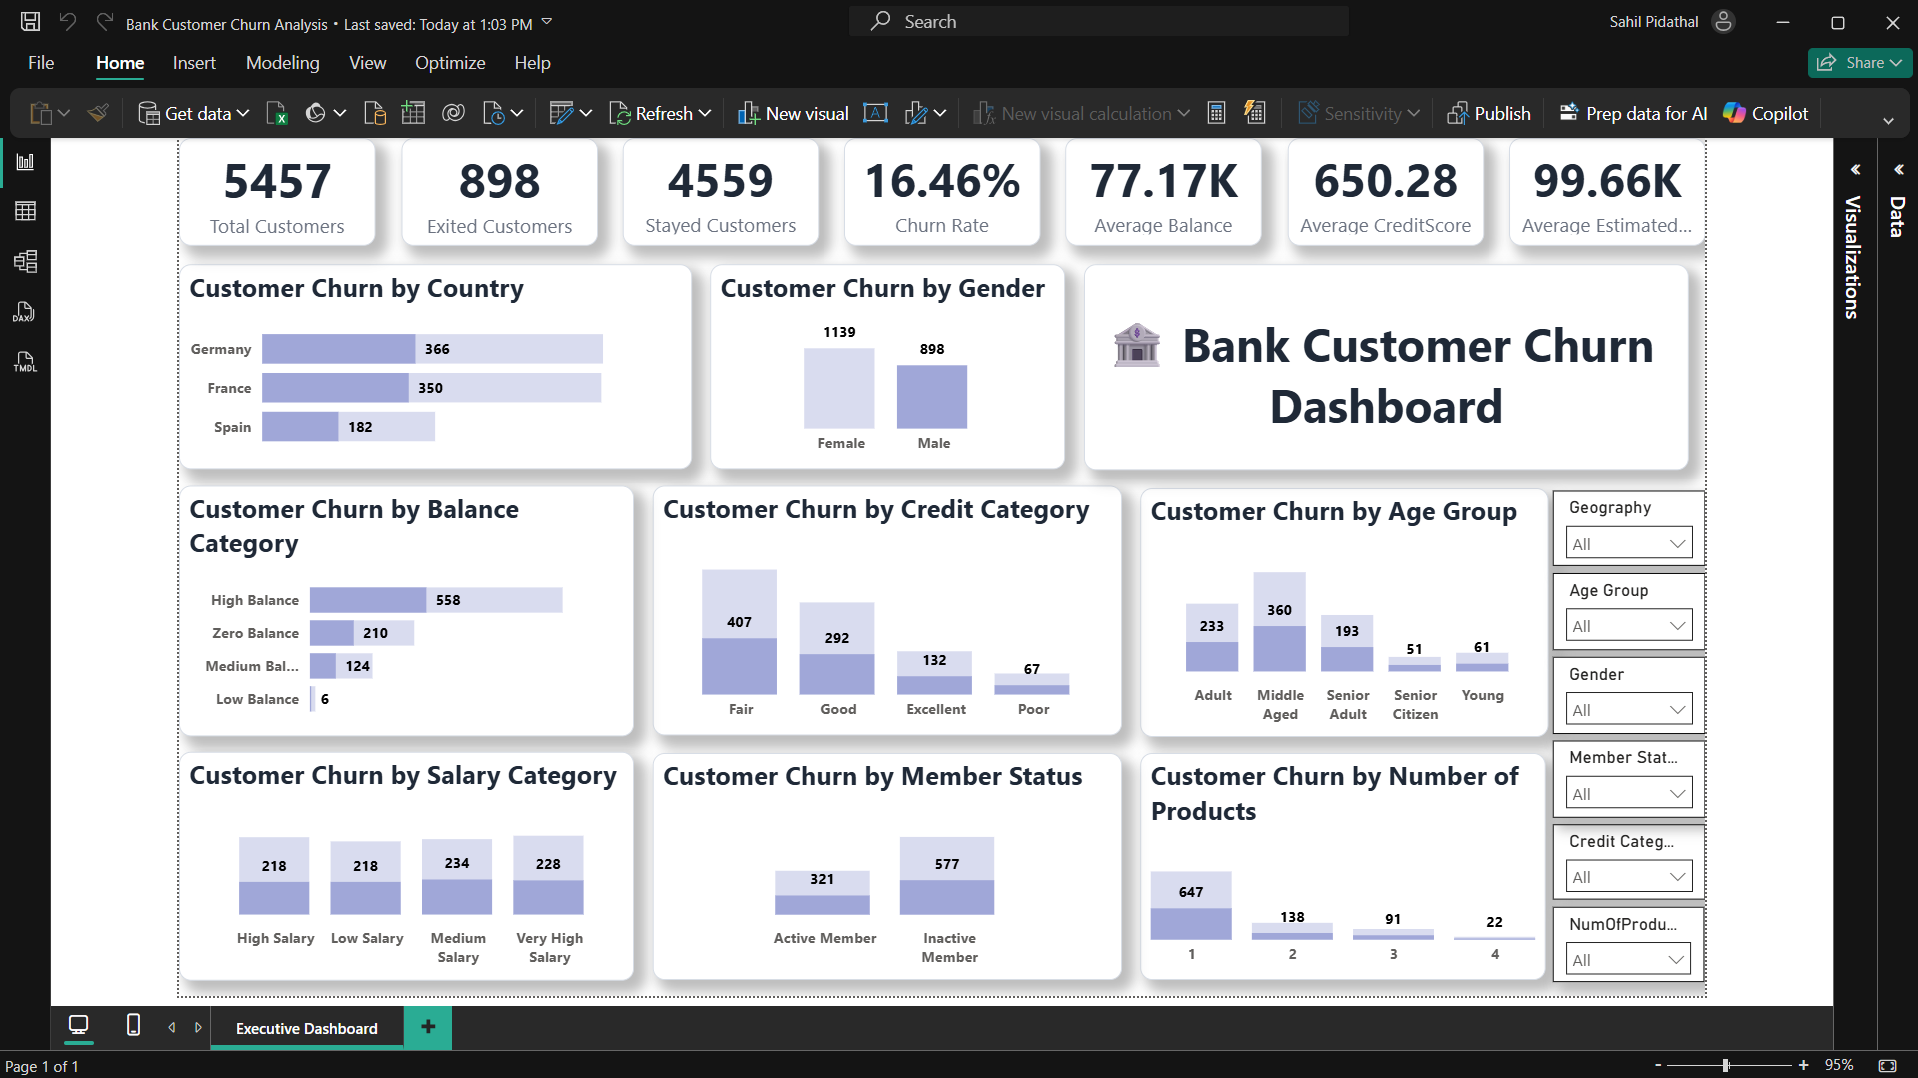

What the dashboard file says about the page in this screenshot:
{"tool":"powerbi","page":{"name":"Executive Dashboard","canvas":[1280,720],"ordinal":0},"visuals":[{"type":"card","fields":{"Values":["Bank Customers.Exited Customers"]},"box":[186.2,-0.4,165,90],"z":0},{"type":"card","fields":{"Values":["Bank Customers.Stayed Customers"]},"box":[372.1,-0.4,165,90],"z":1000},{"type":"card","fields":{"Values":["Bank Customers.Churn Rate"]},"box":[557.9,-0.4,165,90],"z":2000},{"type":"card","fields":{"Values":["Bank Customers.Average Balance"]},"box":[743.7,-0.4,165,90],"z":3000},{"type":"clusteredBarChart","title":"Customer Churn by Country","fields":{"Category":["Bank Customers.Geography"],"Y":["Bank Customers.Exited Customers"]},"box":[0,106,430.1,172.1],"z":4000},{"type":"clusteredColumnChart","title":"Customer Churn by Gender","fields":{"Category":["Bank Customers.Gender"],"Y":["Bank Customers.Exited Customers"]},"box":[445.5,106,298,172.1],"z":5000},{"type":"clusteredColumnChart","title":"Customer Churn by Age Group","fields":{"Category":["Bank Customers.Age Group"],"Y":["Bank Customers.Exited Customers"]},"box":[806.1,293.6,342.1,209],"z":6000},{"type":"clusteredColumnChart","title":"Customer Churn by Number of Products","fields":{"Category":["Bank Customers.NumOfProducts"],"Y":["Bank Customers.Exited Customers"]},"box":[806.6,516.2,340.4,190.8],"z":7000},{"type":"clusteredColumnChart","title":"Customer Churn by Credit Category","fields":{"Category":["Bank Customers.Credit Category"],"Y":["Bank Customers.Exited Customers"]},"box":[396.8,291.7,394,209.5],"z":8000},{"type":"clusteredBarChart","title":"Customer Churn by Balance Category","fields":{"Category":["Bank Customers.Balance Category"],"Y":["Bank Customers.Exited Customers"]},"box":[0,291,381.5,210.7],"z":9000},{"type":"clusteredColumnChart","title":"Customer Churn by Salary Category","fields":{"Category":["Bank Customers.Salary Category"],"Y":["Bank Customers.Exited Customers"]},"box":[0.4,514.6,381.7,191.7],"z":10000},{"type":"clusteredColumnChart","title":"Customer Churn by Member Status","fields":{"Category":["Bank Customers.Member Status"],"Y":["Bank Customers.Exited Customers"]},"box":[397.4,516.2,394,190.8],"z":11000},{"type":"slicer","fields":{"Values":["Bank Customers.Geography"]},"box":[1151.9,296.1,128.1,63.4],"z":12000},{"type":"card","fields":{"Values":["Bank Customers.Average EstimatedSalary"]},"box":[1115.4,-0.4,165,90],"z":13000},{"type":"card","fields":{"Values":["Bank Customers.Total Customer"]},"box":[0.4,-0.4,165,90],"z":14000},{"type":"card","fields":{"Values":["Bank Customers.Average CreditScore"]},"box":[929.6,-0.4,165,90],"z":15000},{"type":"slicer","fields":{"Values":["Bank Customers.Age Group"]},"box":[1151.9,365,128.1,64.7],"z":16000},{"type":"slicer","fields":{"Values":["Bank Customers.Credit Category"]},"box":[1151.9,575.5,128.1,63.4],"z":17000},{"type":"slicer","fields":{"Values":["Bank Customers.Gender"]},"box":[1151.9,435.1,128.1,64.7],"z":18000},{"type":"slicer","fields":{"Values":["Bank Customers.NumOfProducts"]},"box":[1151.9,644.4,126.9,63.4],"z":19000},{"type":"slicer","fields":{"Values":["Bank Customers.Member Status"]},"box":[1151.9,505.3,128.1,64.7],"z":20000},{"type":"card","fields":{"Values":["Bank Customers.Dashboard Title"]},"box":[758.8,105.7,507.5,172.9],"z":21000}]}

Visuals, with their boxes on the page's 1280x720 design canvas (x1, y1, x2, y2). These are canvas units, not pixel positions in the 1918x1078 screenshot, which may show the page scaled, cropped or inside an application window:
card - Bank Customers.Exited Customers: Rect(186, 0, 351, 90)
card - Bank Customers.Stayed Customers: Rect(372, 0, 537, 90)
card - Bank Customers.Churn Rate: Rect(558, 0, 723, 90)
card - Bank Customers.Average Balance: Rect(744, 0, 909, 90)
"Customer Churn by Country" clusteredBarChart: Rect(0, 106, 430, 278)
"Customer Churn by Gender" clusteredColumnChart: Rect(446, 106, 744, 278)
"Customer Churn by Age Group" clusteredColumnChart: Rect(806, 294, 1148, 503)
"Customer Churn by Number of Products" clusteredColumnChart: Rect(807, 516, 1147, 707)
"Customer Churn by Credit Category" clusteredColumnChart: Rect(397, 292, 791, 501)
"Customer Churn by Balance Category" clusteredBarChart: Rect(0, 291, 382, 502)
"Customer Churn by Salary Category" clusteredColumnChart: Rect(0, 515, 382, 706)
"Customer Churn by Member Status" clusteredColumnChart: Rect(397, 516, 791, 707)
slicer - Bank Customers.Geography: Rect(1152, 296, 1280, 360)
card - Bank Customers.Average EstimatedSalary: Rect(1115, 0, 1280, 90)
card - Bank Customers.Total Customer: Rect(0, 0, 165, 90)
card - Bank Customers.Average CreditScore: Rect(930, 0, 1095, 90)
slicer - Bank Customers.Age Group: Rect(1152, 365, 1280, 430)
slicer - Bank Customers.Credit Category: Rect(1152, 576, 1280, 639)
slicer - Bank Customers.Gender: Rect(1152, 435, 1280, 500)
slicer - Bank Customers.NumOfProducts: Rect(1152, 644, 1279, 708)
slicer - Bank Customers.Member Status: Rect(1152, 505, 1280, 570)
card - Bank Customers.Dashboard Title: Rect(759, 106, 1266, 279)
